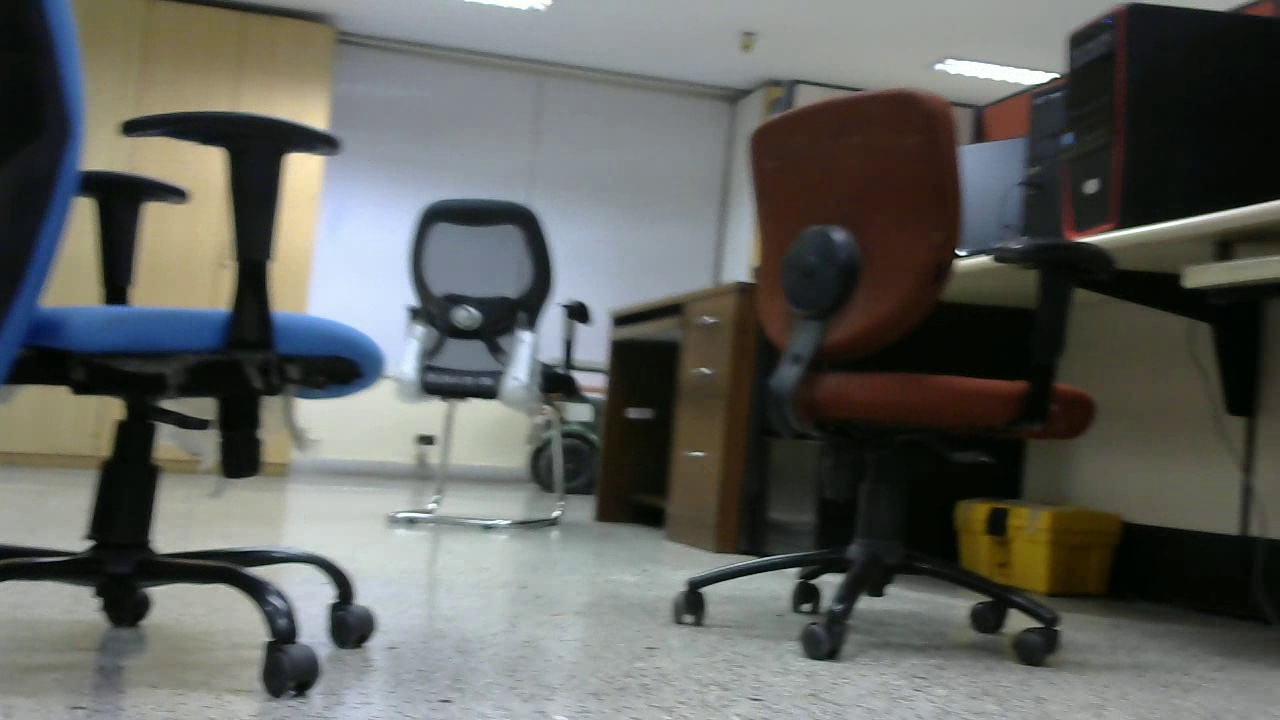chair: (10, 43, 380, 694), (686, 91, 1064, 657), (395, 198, 570, 526)
